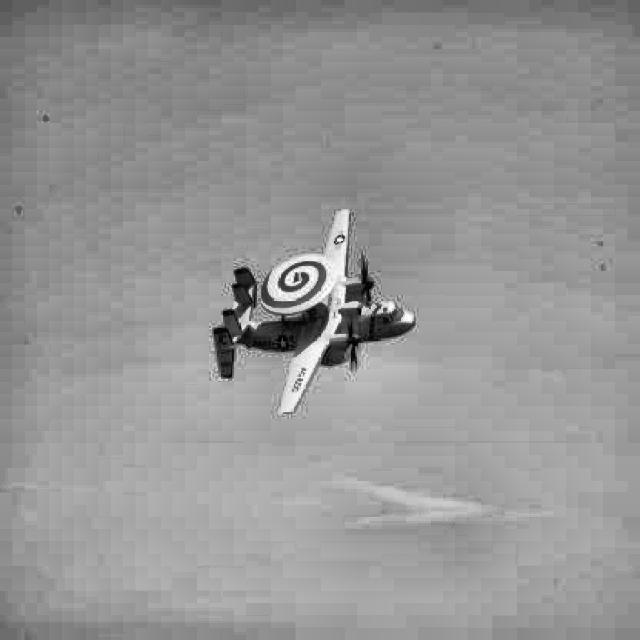E2: (212, 208, 416, 414)
